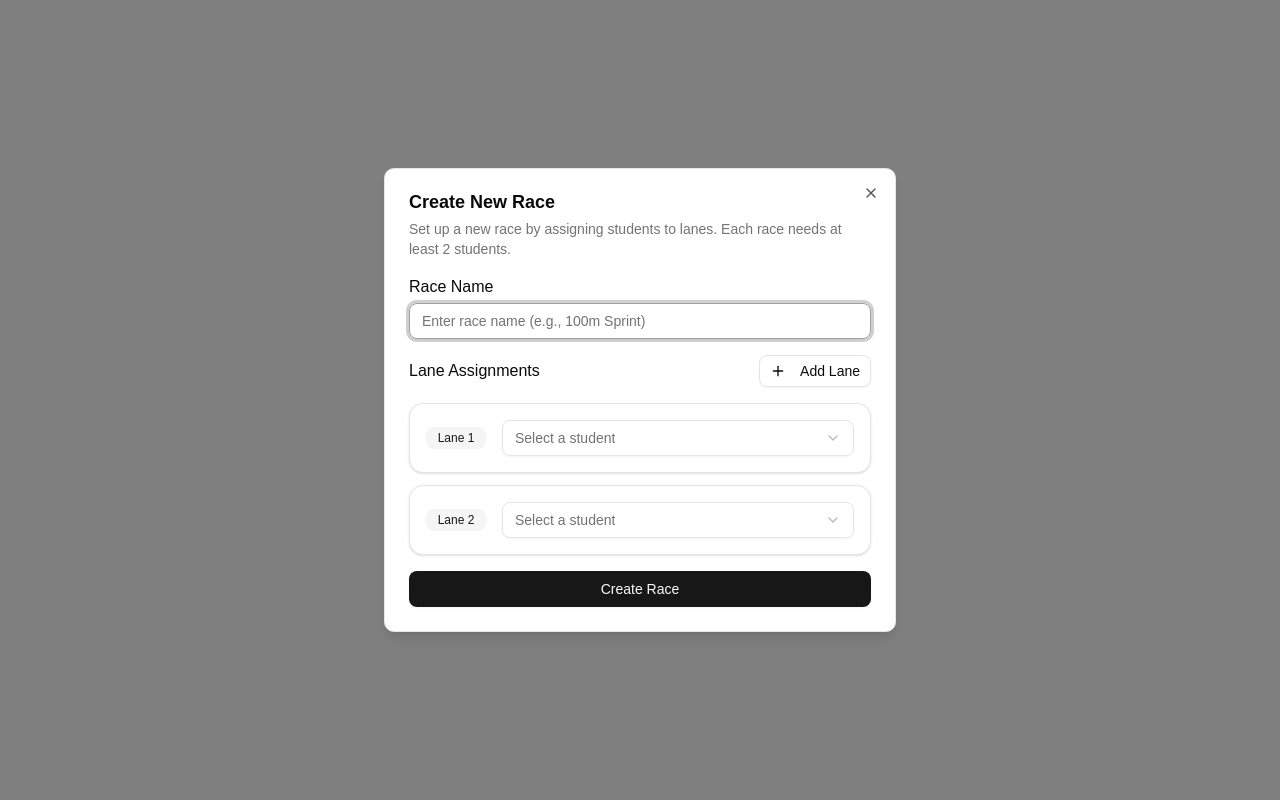
Test: CreateRaceDialog › validates and shows error when race name is missing
Click the button "Create Race": click(640, 589) [409,571,871,607]
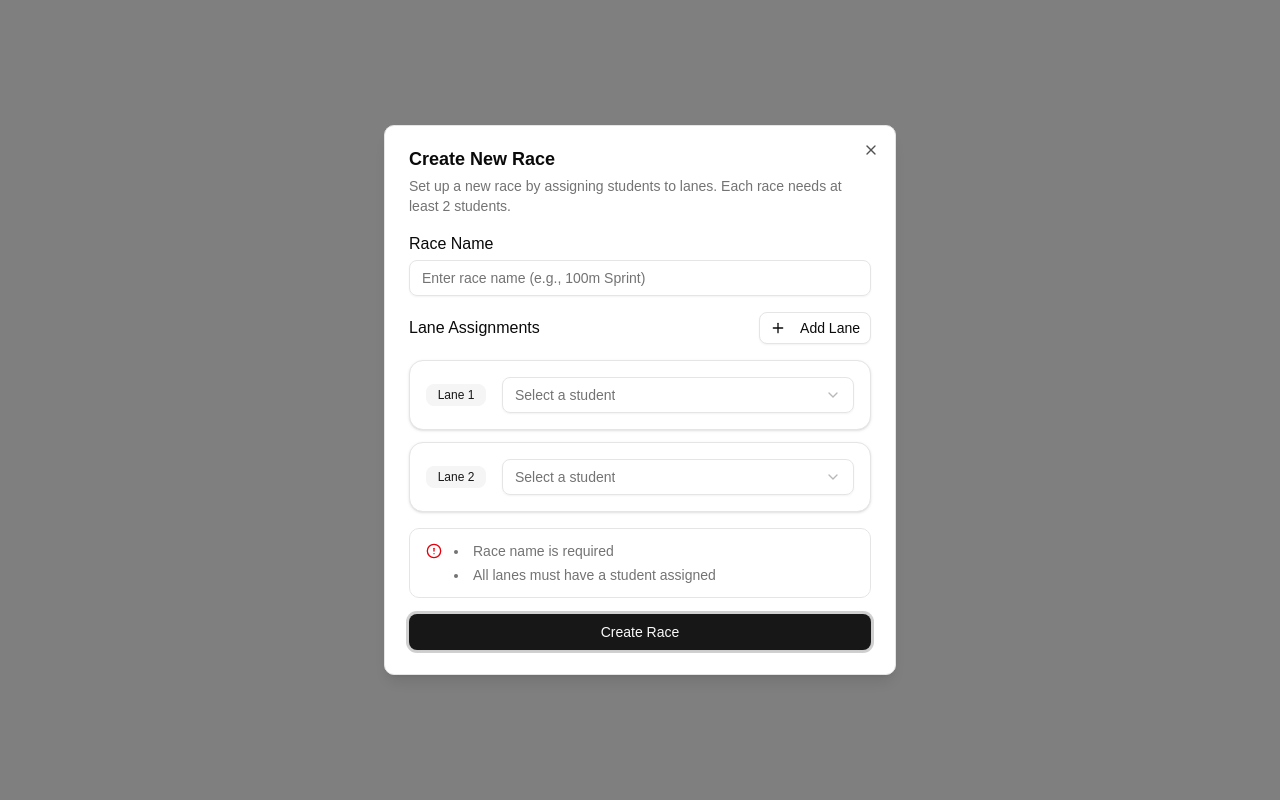
Expected: the list item "Race name is required" is shown, [473,543,614,559]
